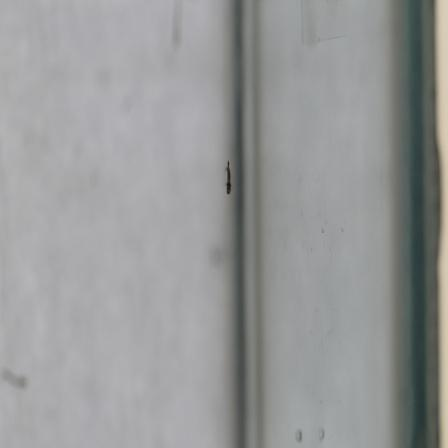Jentik-Nyamuk: (218, 154, 237, 198)
